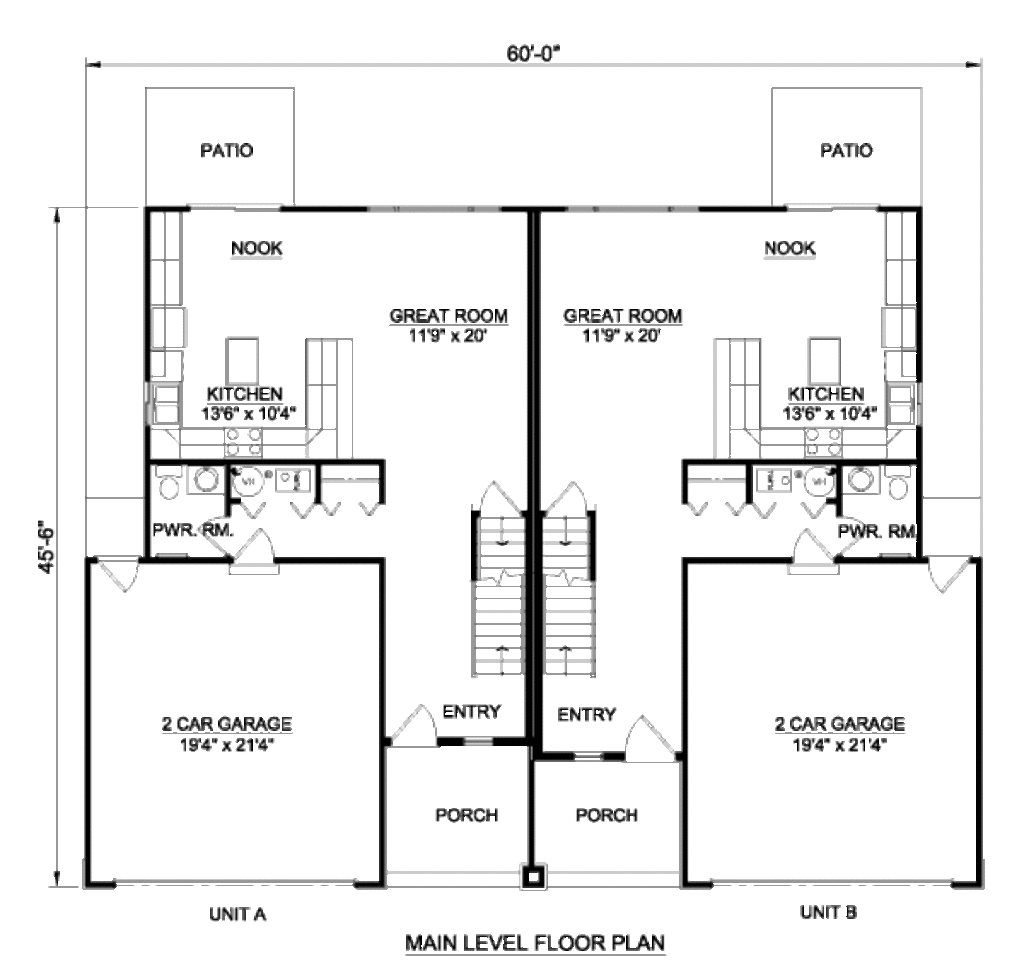door: (775, 524, 842, 586), (225, 523, 289, 575), (624, 710, 683, 766), (376, 702, 441, 750), (90, 547, 146, 601), (921, 544, 969, 596), (197, 516, 242, 563), (541, 476, 589, 515), (475, 476, 515, 513)
large_sink: (142, 462, 190, 507), (884, 464, 917, 501)
small_sink: (185, 458, 224, 492), (843, 466, 880, 495)
stairs: (537, 515, 606, 675), (470, 512, 532, 676)
twin_sink: (142, 377, 195, 428), (877, 378, 923, 427)
window: (459, 728, 495, 755), (566, 743, 605, 766)
